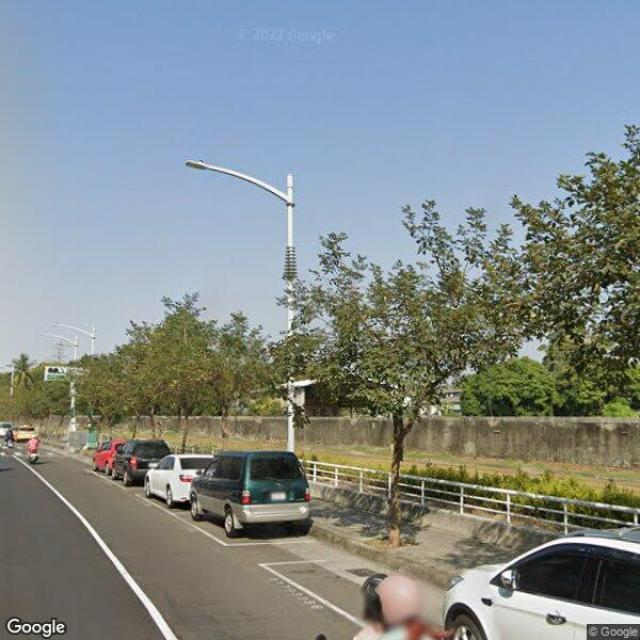Legalparking: (445, 528, 639, 639), (94, 440, 310, 537)
